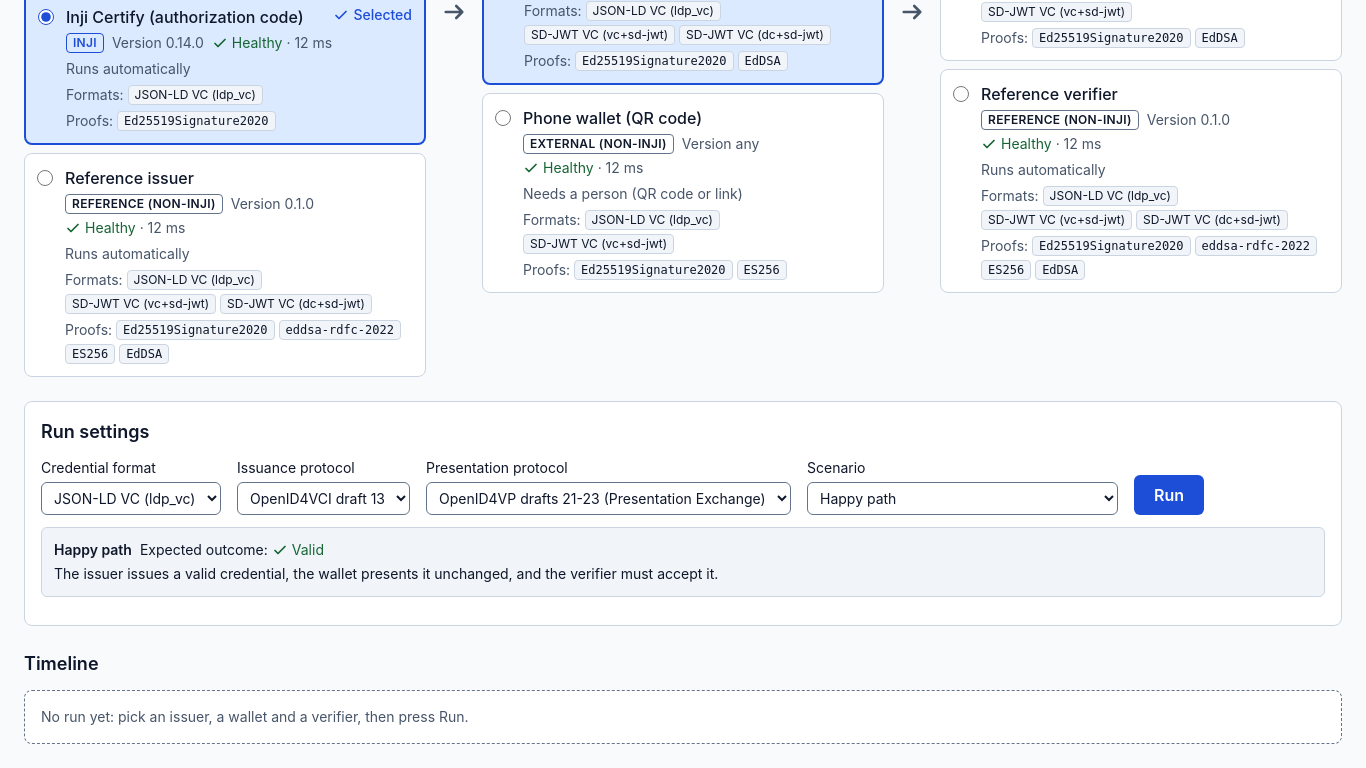
it: run bar › shows the server error when a run cannot be started
(page scrolled)
Click the button "Run" at (1169, 495), box [1134,475,1204,515]
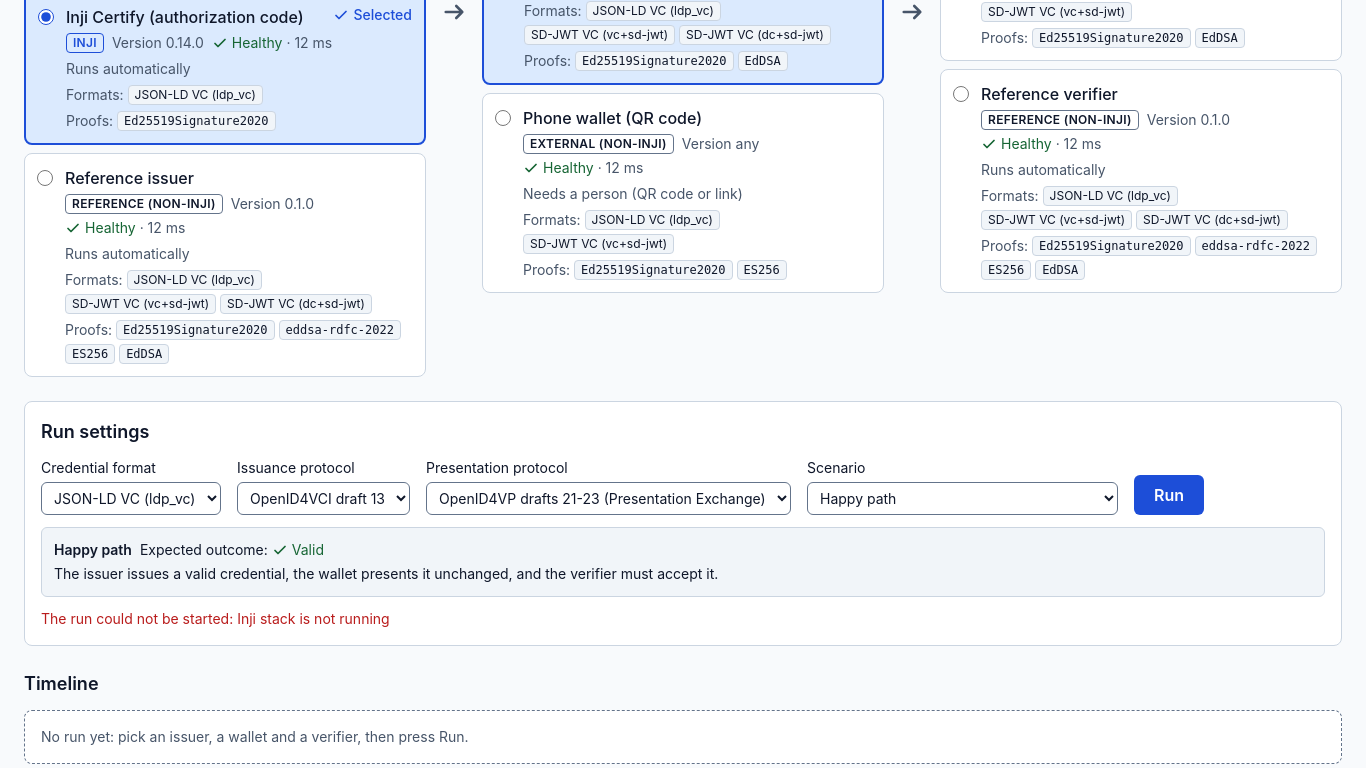
Expected: the message reads "The run could not be started: Inji stack is not running", [41,610,390,627]
